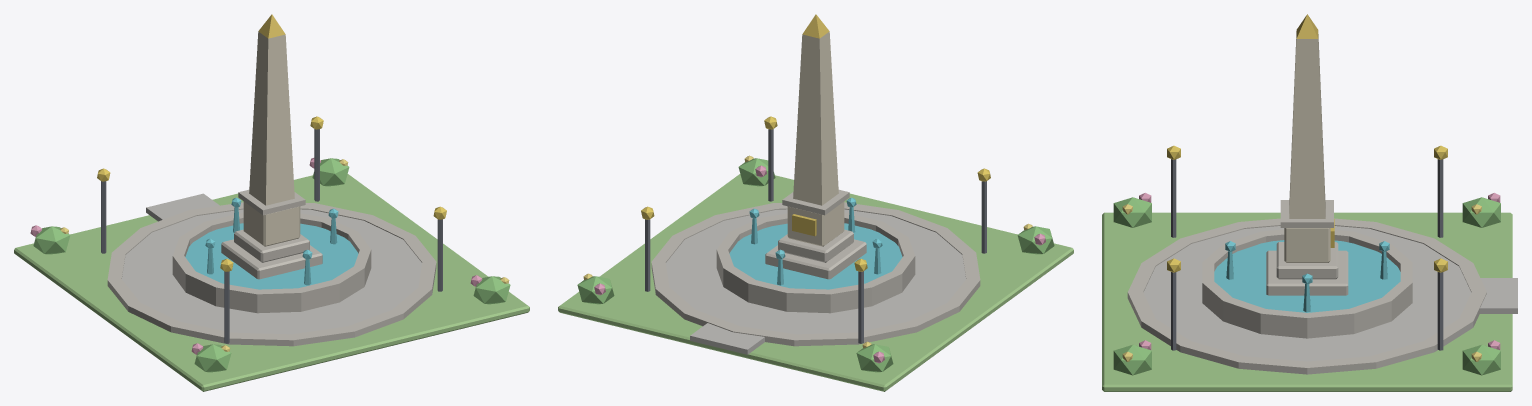
File: publicos__monumento.glb
3 renders of one model, left to right at view 1: azimuth 30°, elevation 25°; view 2: azimuth 150°, elevation 25°; view 3: azimuth 270°, elevation 25°, orthographic. The views are drawn at different scales.
Visible parts, largest first — view 1: publicos__monumento; view 2: publicos__monumento; view 3: publicos__monumento.
Part boxes in pixels (x1,y1,x2,y2): publicos__monumento: (14, 14, 529, 391); publicos__monumento: (558, 14, 1073, 391); publicos__monumento: (1102, 14, 1517, 391).
Size of the model in its own units: 4 by 3.14 by 4.05.
